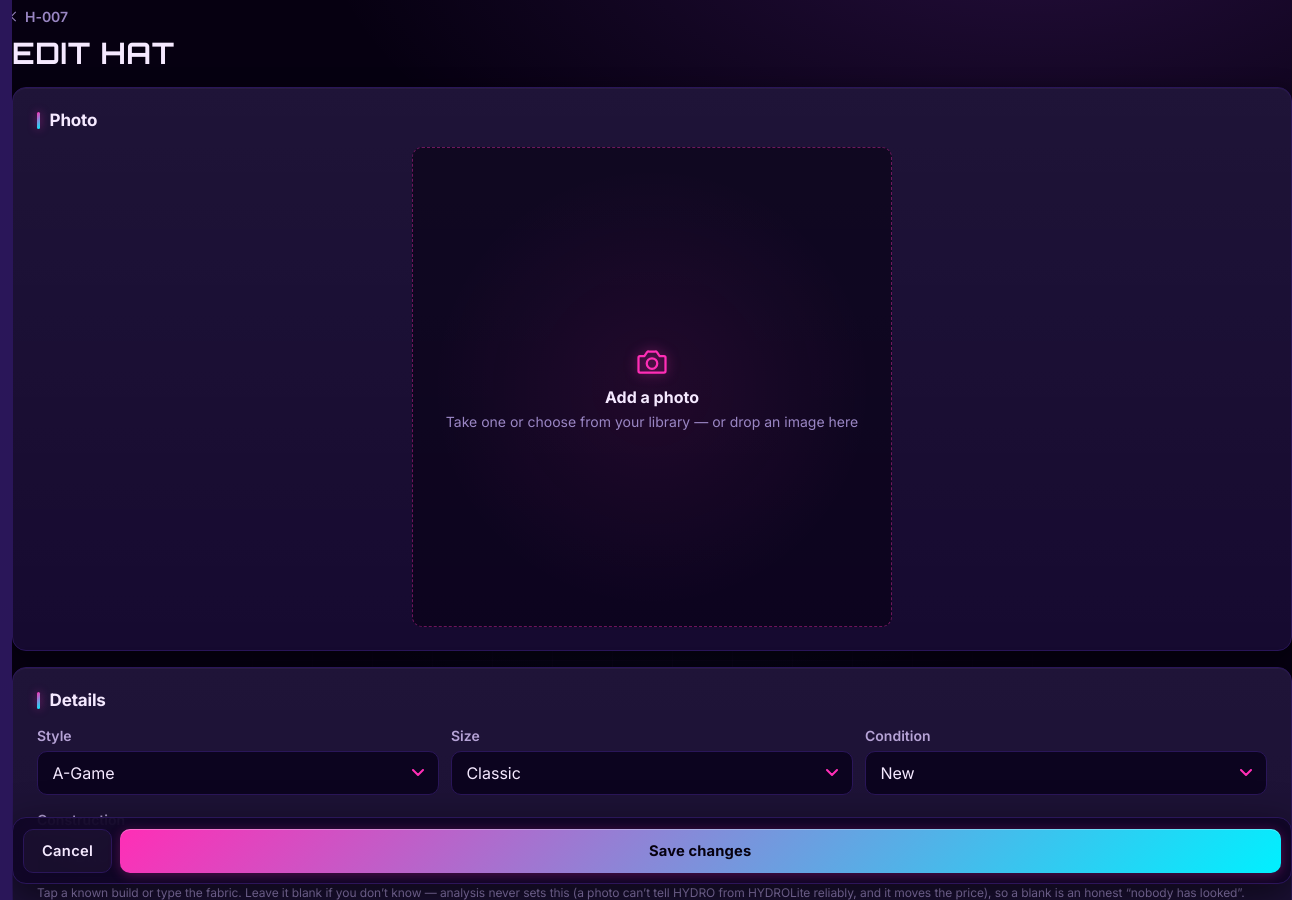
EditHatPage — a save that fails part-way › says "Not saved" when the first write fails and nothing landed
The image size is (1292, 900).
Click the button "Save changes" at coordinates (700, 851), box [120,829,1281,873]
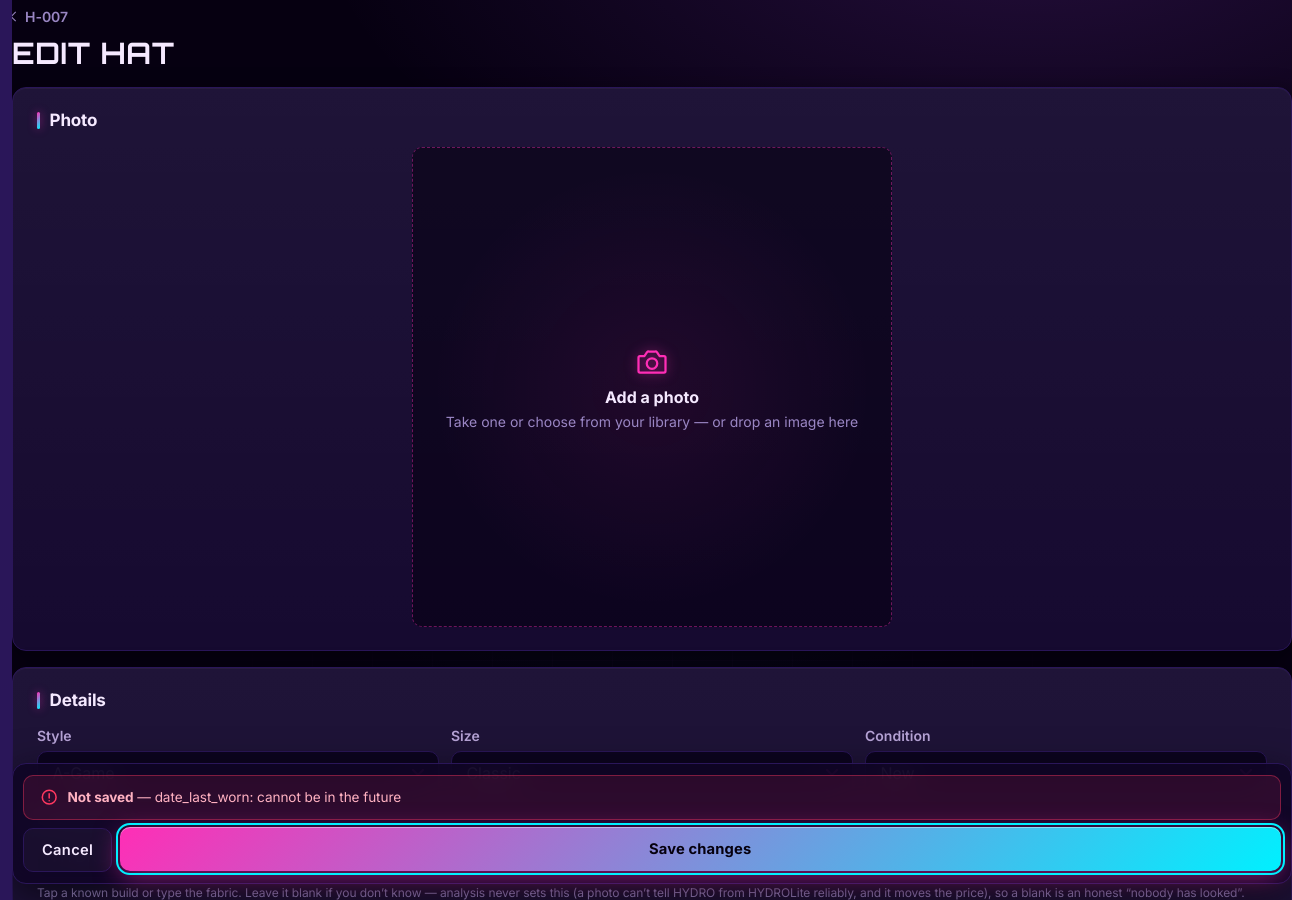
Result: the message reads "Not saved — date_last_worn: cannot be in the future" at [23,775,1281,821]
